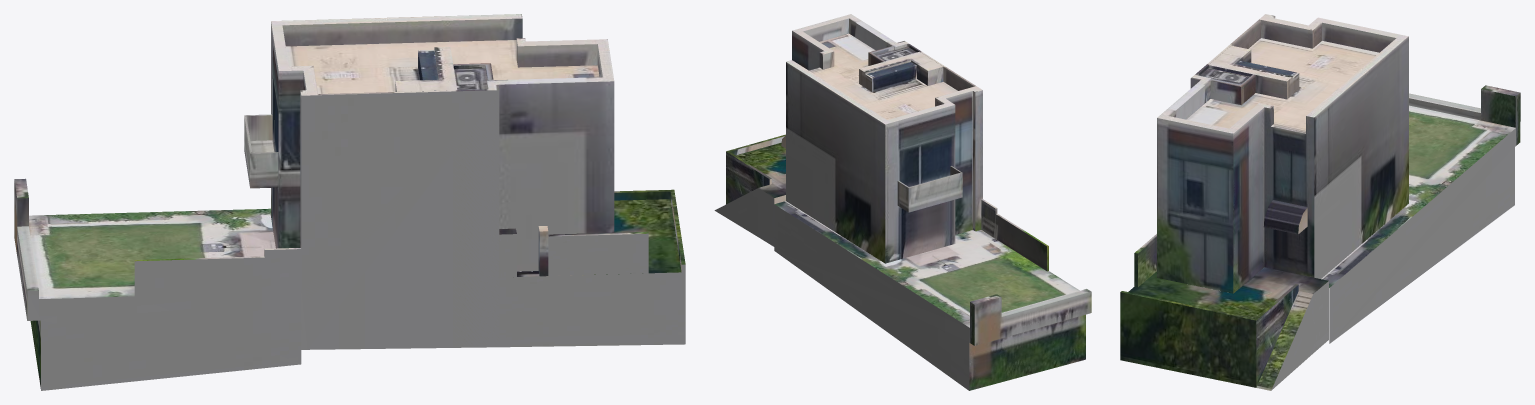
The picture shows the model from 3 angles, left to right: view 1: azimuth 30°, elevation 25°; view 2: azimuth 150°, elevation 25°; view 3: azimuth 270°, elevation 25°; orthographic projection. The views are drawn at different scales.
Visible parts, largest first — view 1: B287454032401062A0; view 2: B287454032401062A0; view 3: B287454032401062A0.
Boxes of the visible parts, <box> form: B287454032401062A0: <box>14,14,685,390</box>; B287454032401062A0: <box>714,14,1091,390</box>; B287454032401062A0: <box>1120,14,1520,390</box>.
Size of the model in its own units: 28.76 by 13.44 by 19.84.
Materials: 2 (2 with a texture image).
